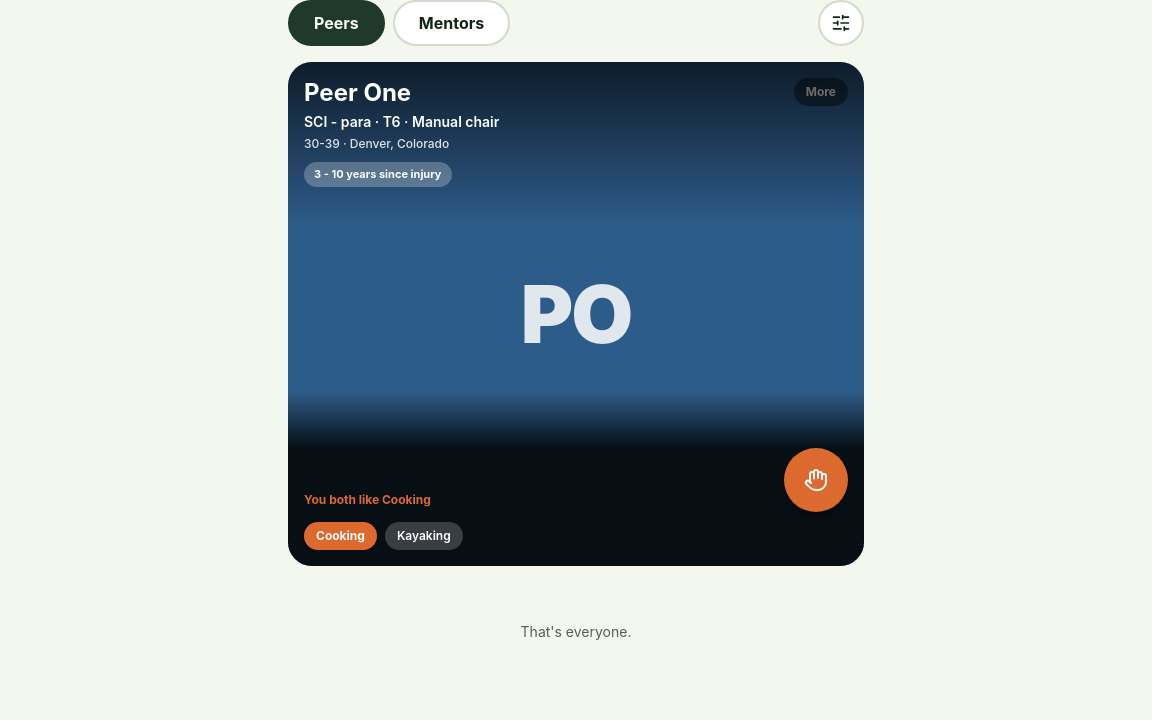
Test case: filters › explains an empty deck instead of just showing nothing
This screenshot has width=1152, height=720.
Check: the heading "Peer One" is shown, box 304,78 -> 411,107
Click the button named "Filters": (841, 23) 818,0 -> 864,46
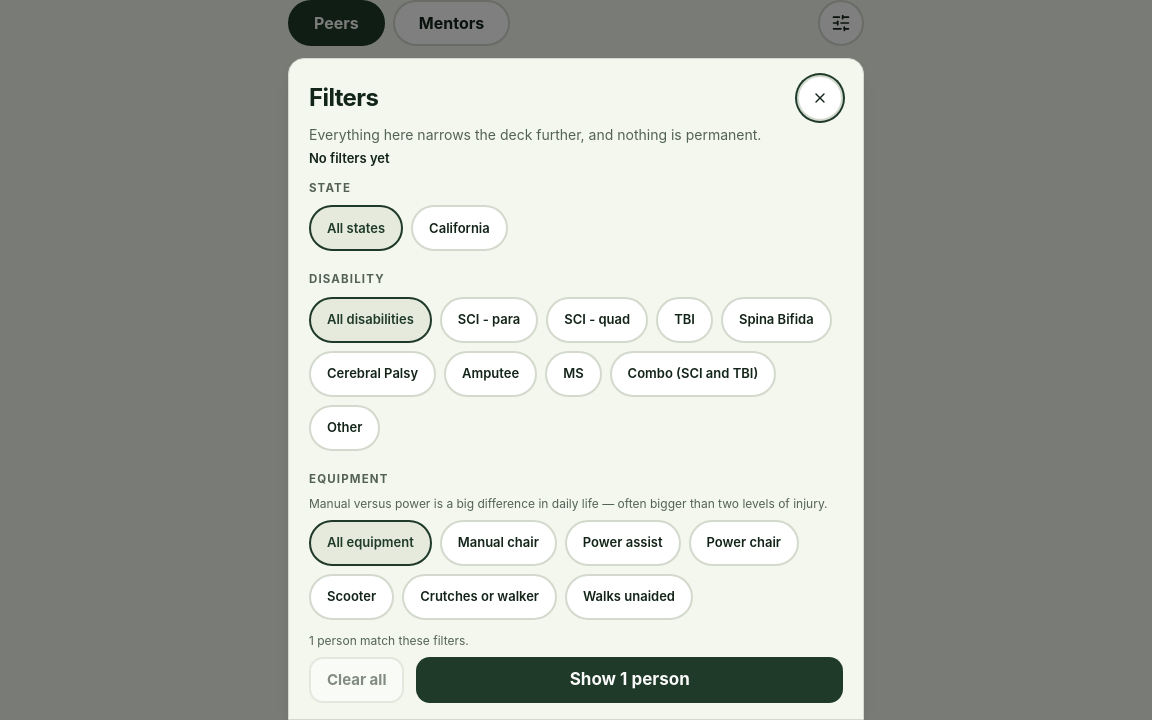
Click the button "California": (459, 228) 411,205 -> 508,251
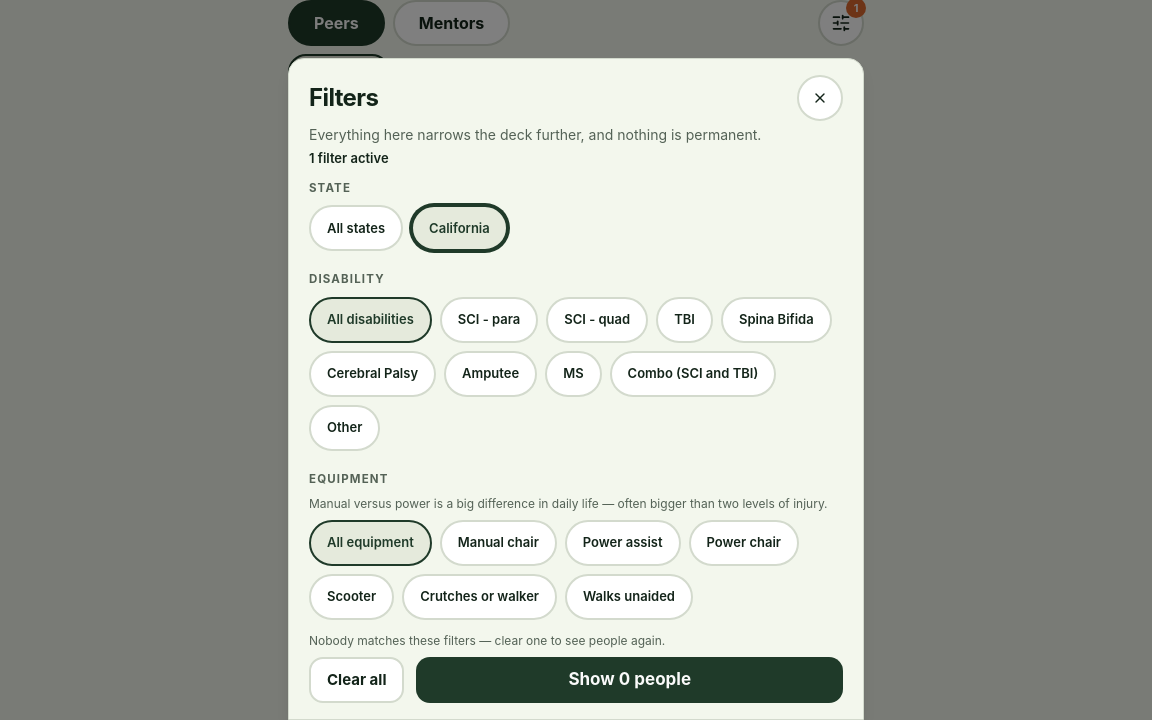
Click the button named "Close filters": (820, 98) 797,75 -> 843,121
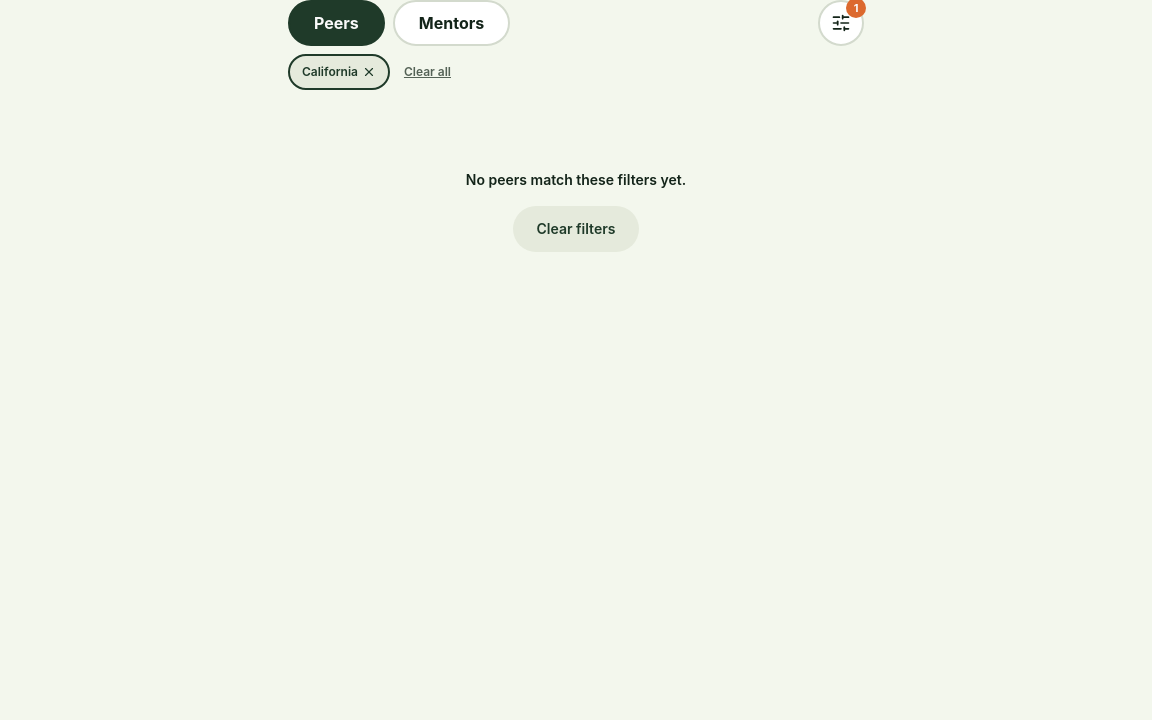
Check: the text "No peers match these filters yet." is shown, box 466,171 -> 686,188
Click the button "Clear filters": (576, 229) 512,206 -> 639,252
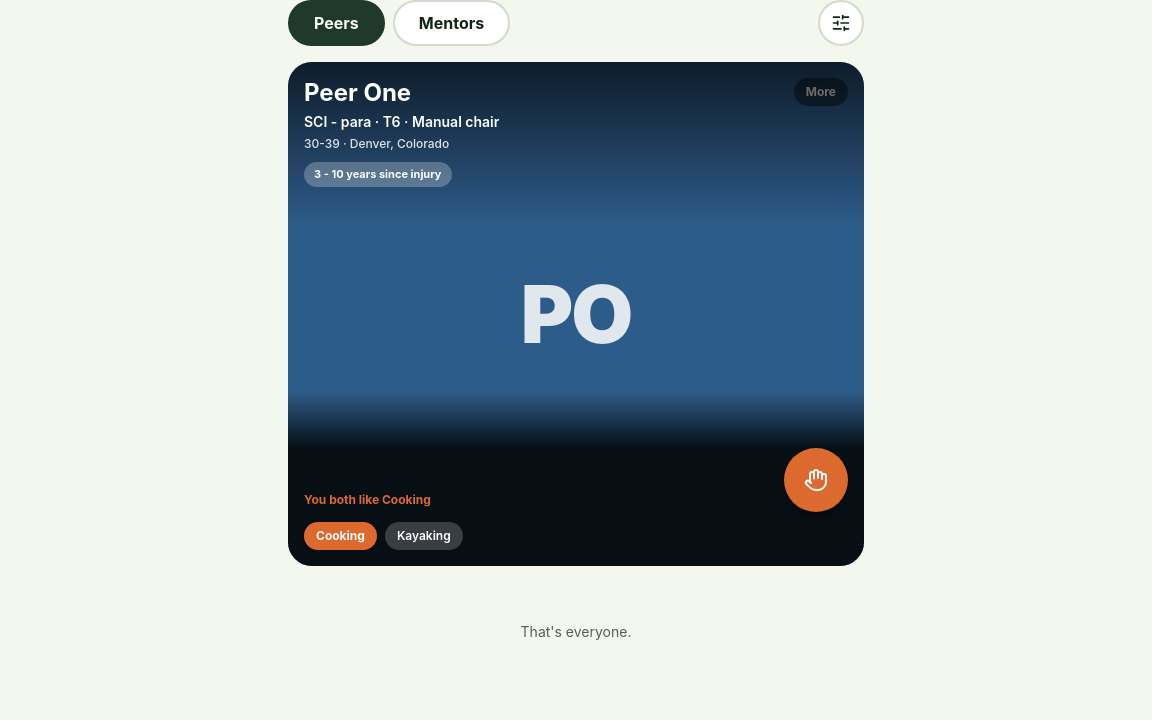
Check: the heading "Peer One" is shown, box 304,78 -> 411,107
